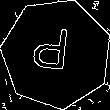P_S: (35, 26, 78, 81)
